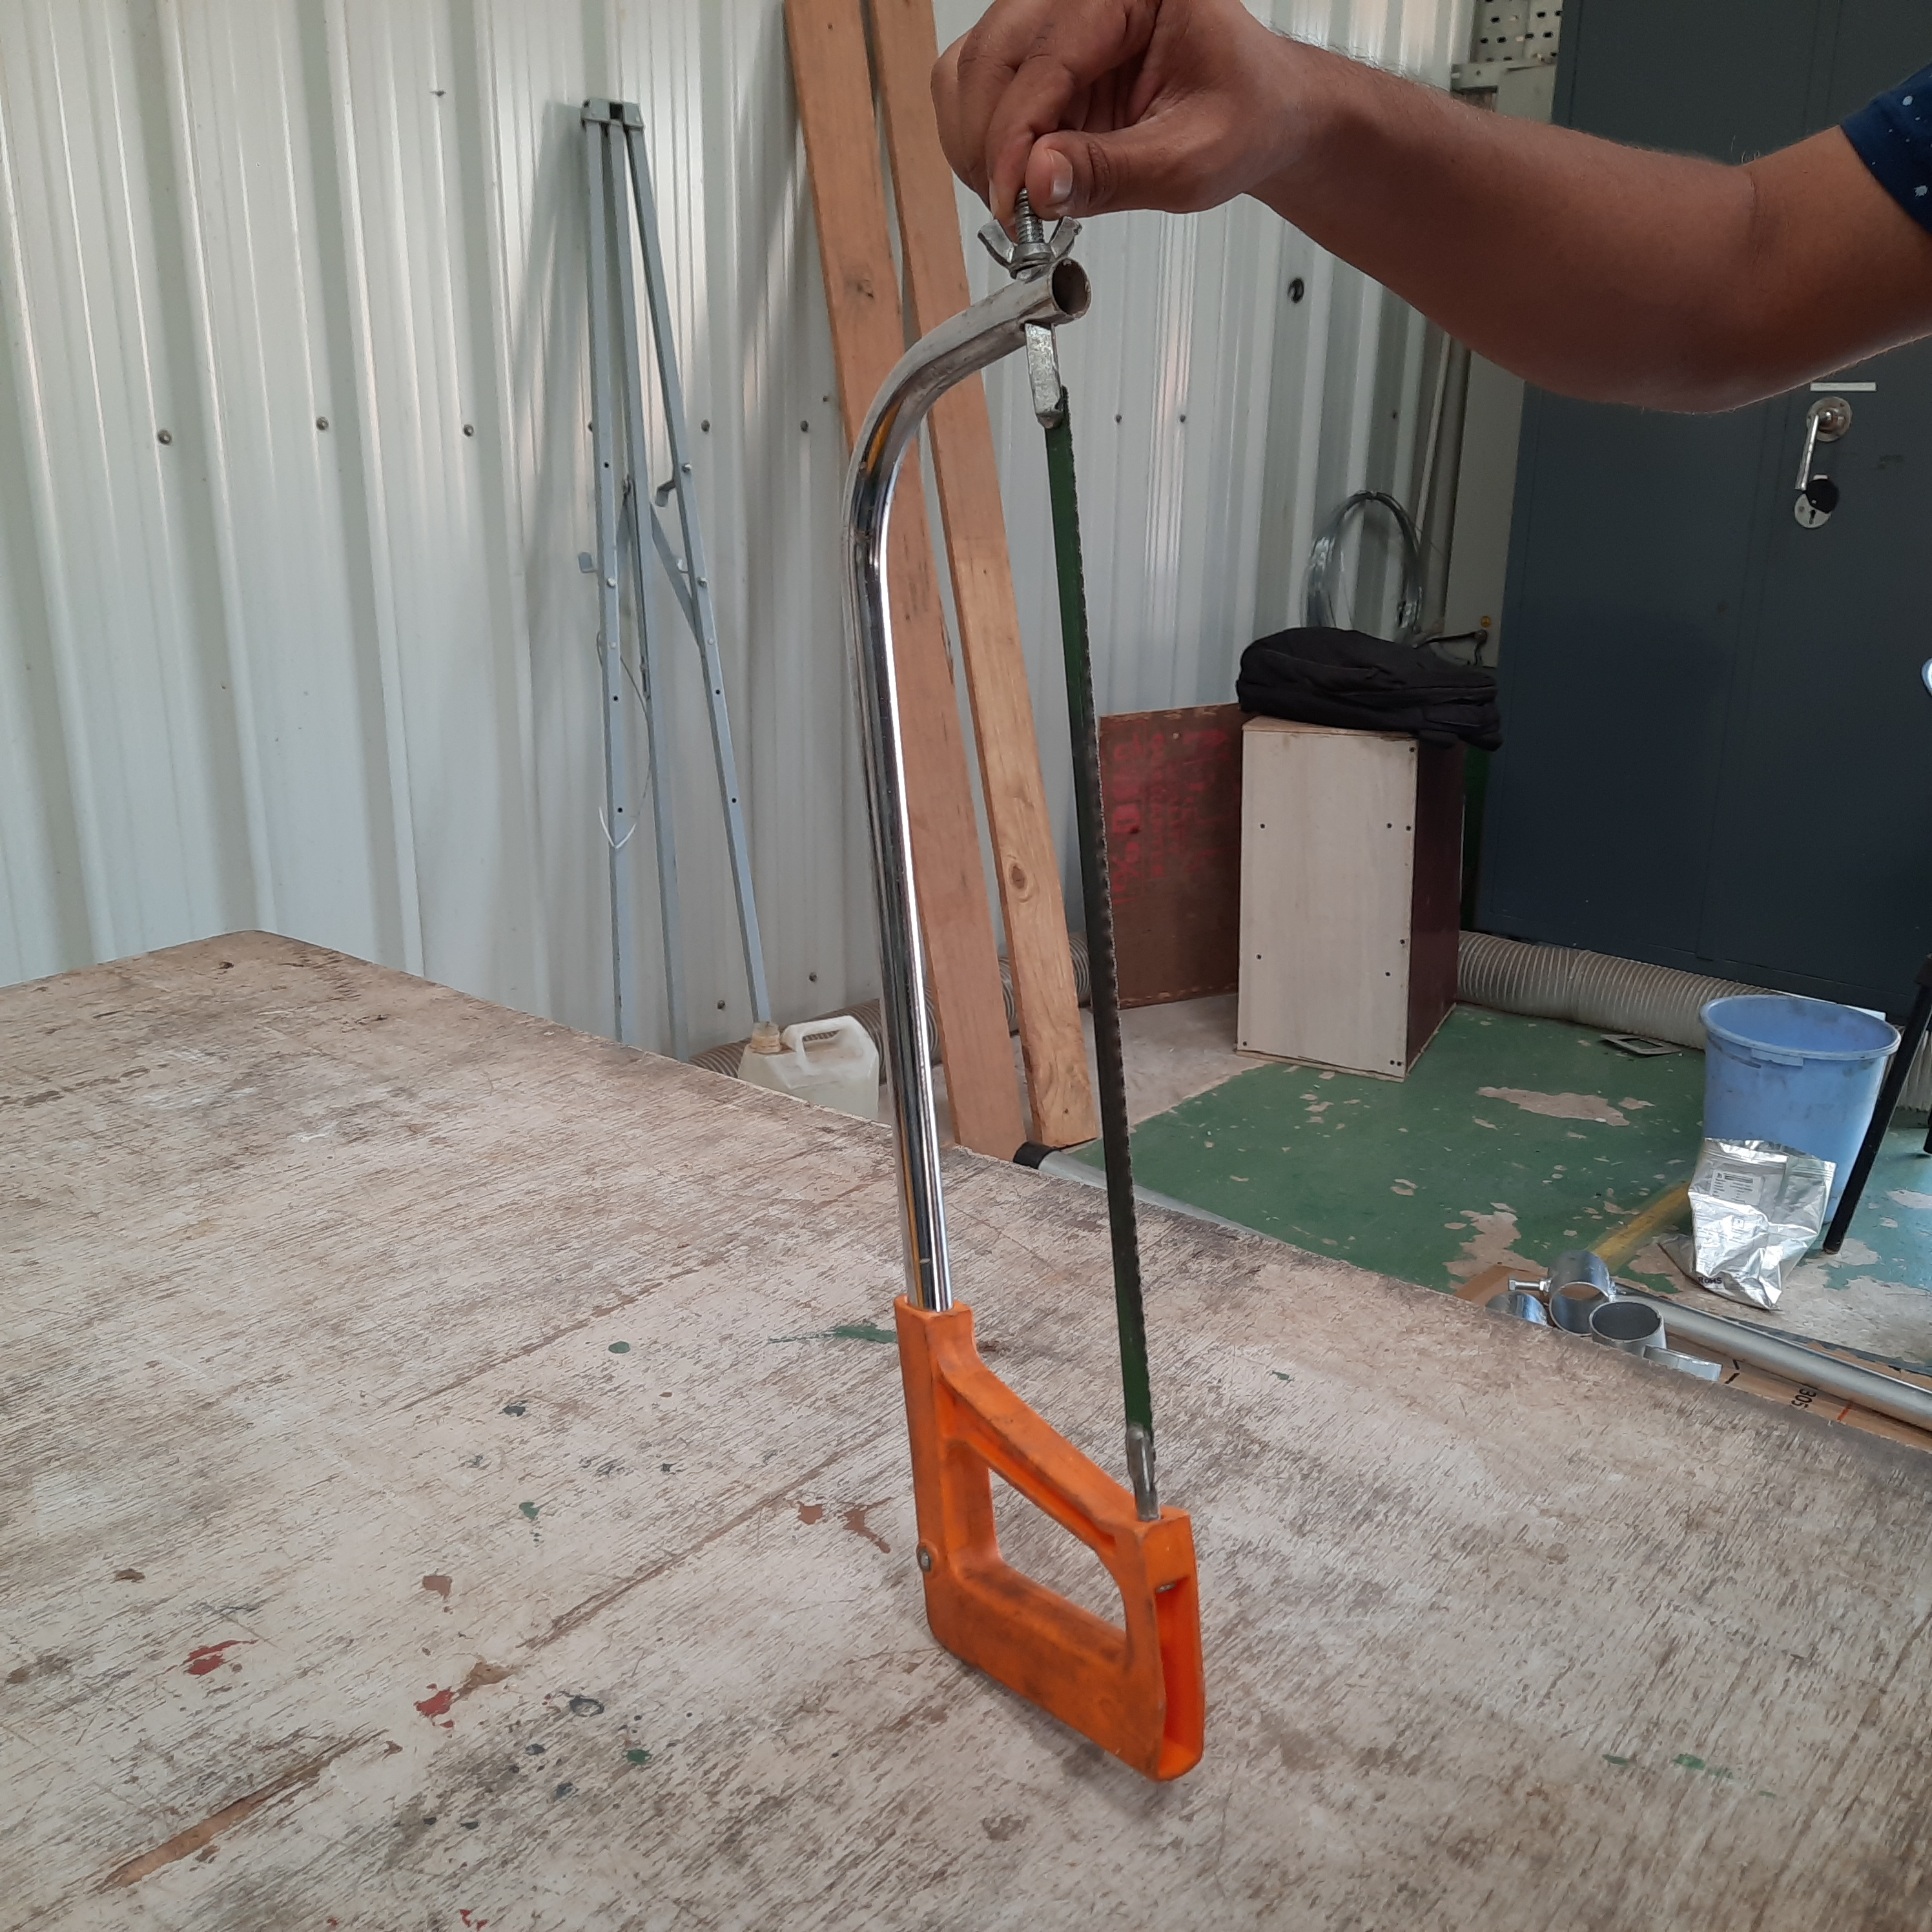Hexaframe: (789, 165, 1253, 1819)
